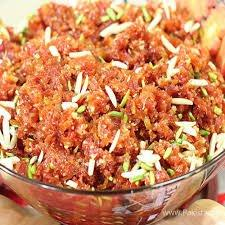Gajar ka halwa: (4, 2, 225, 223)
